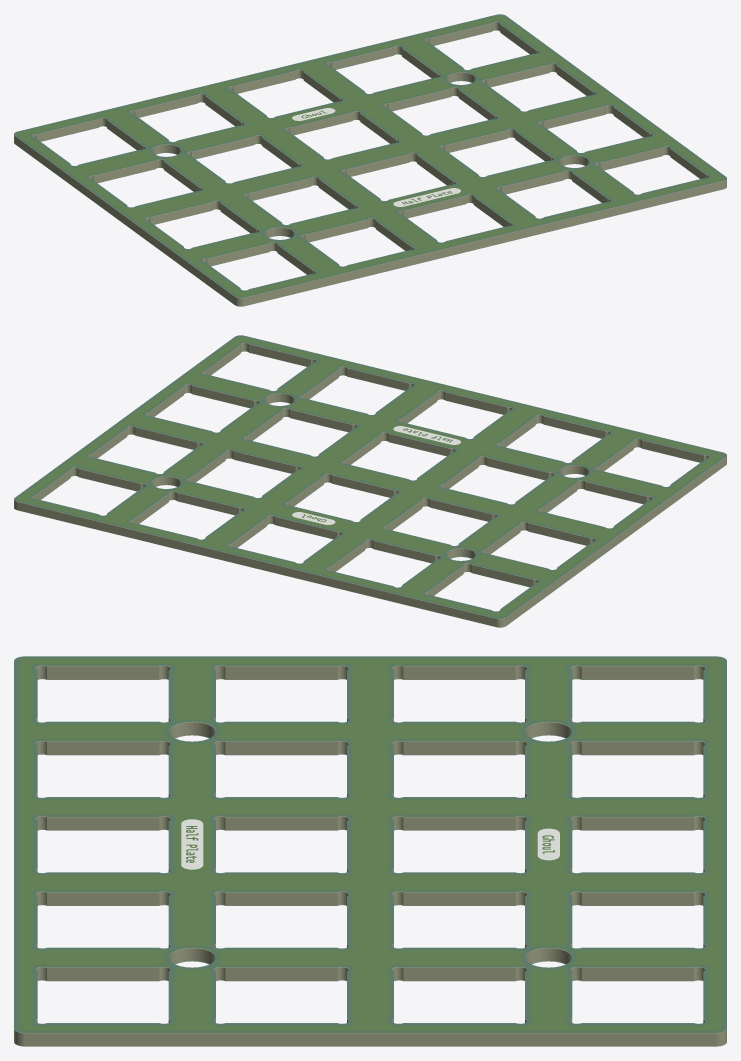
File: board.glb
The picture shows the model from 3 angles, top to bottom: view 1: azimuth 30°, elevation 25°; view 2: azimuth 150°, elevation 25°; view 3: azimuth 270°, elevation 25°; orthographic projection. The views are drawn at different scales.
Visible parts, largest first — view 1: board_soldermask (×2), board_copper, board_PCB, board_silkscreen; view 2: board_soldermask (×2), board_copper, board_PCB, board_silkscreen; view 3: board_soldermask (×2), board_copper, board_PCB, board_silkscreen.
Part boxes in pixels (x1=…): board_soldermask (×2): x1=14, y1=14, x2=726, y2=306; board_copper: x1=17, y1=16, x2=723, y2=296; board_PCB: x1=14, y1=15, x2=726, y2=306; board_silkscreen: x1=292, y1=108, x2=460, y2=206; board_soldermask (×2): x1=14, y1=335, x2=726, y2=627; board_copper: x1=17, y1=337, x2=723, y2=617; board_PCB: x1=14, y1=336, x2=726, y2=627; board_silkscreen: x1=292, y1=426, x2=460, y2=524; board_soldermask (×2): x1=14, y1=656, x2=726, y2=1046; board_copper: x1=19, y1=659, x2=721, y2=1030; board_PCB: x1=14, y1=657, x2=726, y2=1046; board_silkscreen: x1=181, y1=819, x2=559, y2=869.
Bounding box in the file's own units: 0.0953 × 0.00166 × 0.0762.
